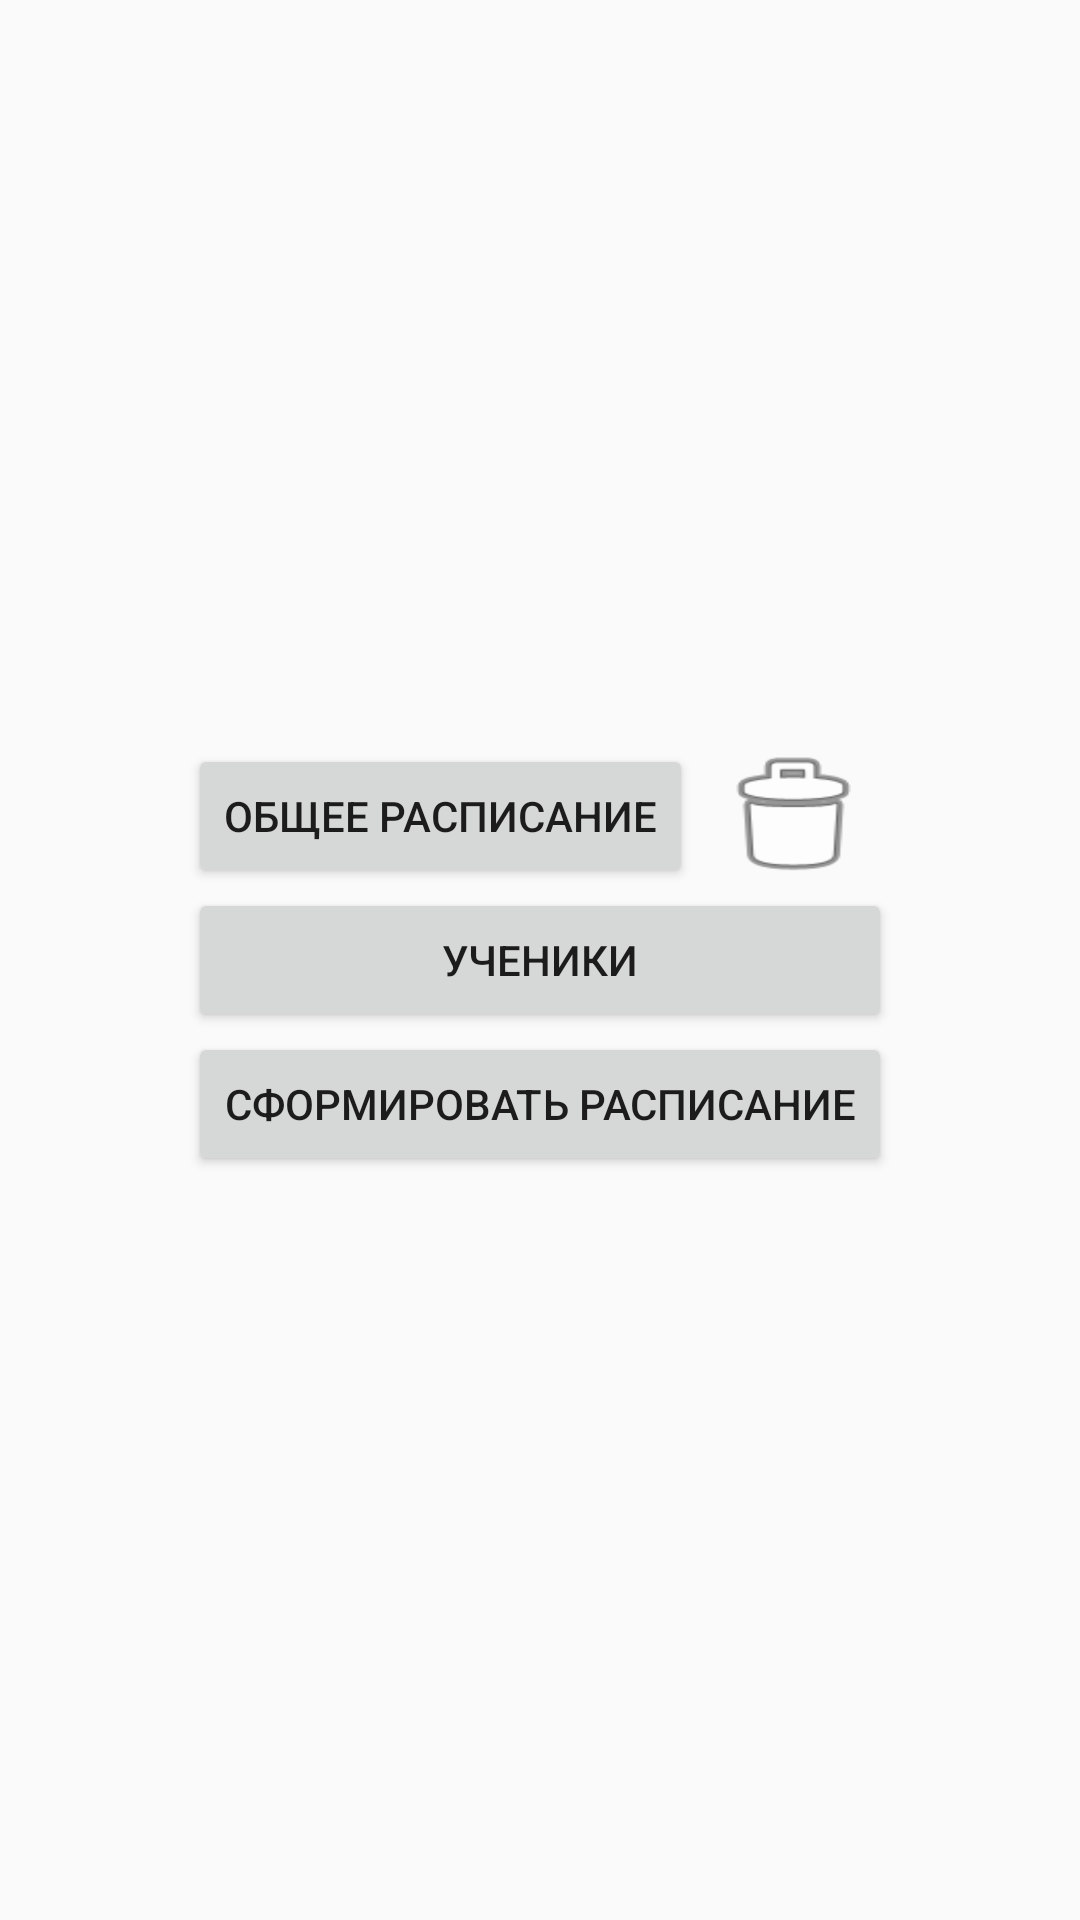

Named icons in this screenshot (1080w x 1920h) and their bounding boxes, (x1, y1, x2, y2):
delete: (737, 757, 850, 870)
